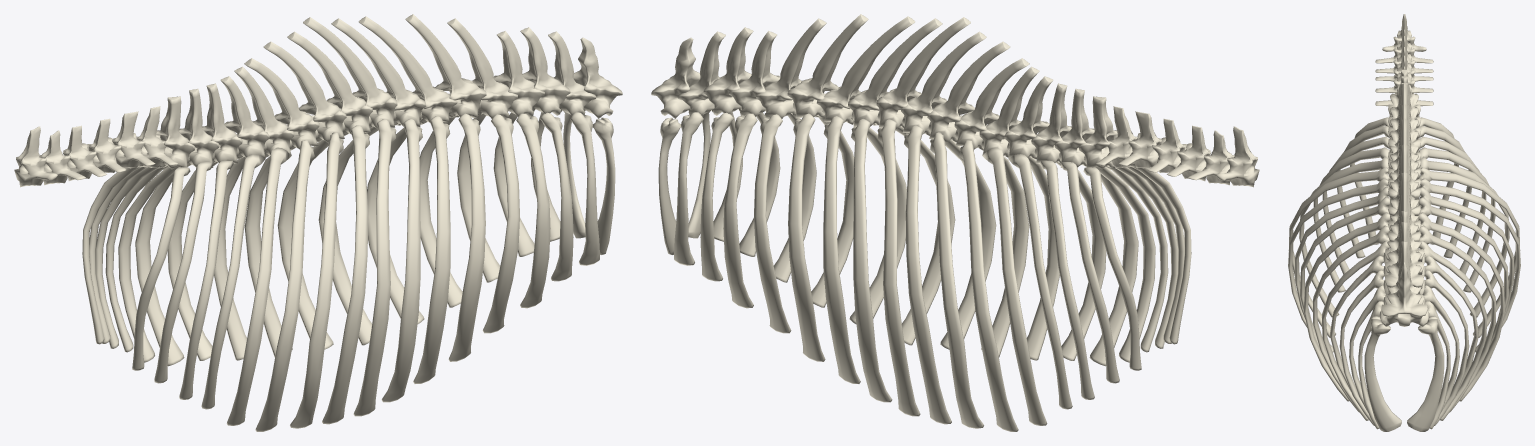
File: pack_horse_skeleton_v1.glb
3 renders of one model, left to right at view 1: azimuth 30°, elevation 25°; view 2: azimuth 150°, elevation 25°; view 3: azimuth 270°, elevation 25°, orthographic. The views are drawn at different scales.
Parts seen in each view (by area): view 1: equ_ske_cos_009-d, equ_ske_cos_010-d, equ_ske_cos_008-d, equ_ske_cos_011-d, equ_ske_cos_012-d, equ_ske_cos_007-d, equ_ske_cos_006-d, equ_ske_cos_013-d, equ_ske_cos_005-d, equ_ske_cos_014-d, equ_ske_cos_004-d, equ_ske_cos_015-d (+45 smaller); view 2: equ_ske_cos_009-i, equ_ske_cos_010-i, equ_ske_cos_008-i, equ_ske_cos_011-i, equ_ske_cos_012-i, equ_ske_cos_007-i, equ_ske_cos_006-i, equ_ske_cos_013-i, equ_ske_cos_005-i, equ_ske_cos_014-i, equ_ske_cos_004-i, equ_ske_cos_015-i (+45 smaller); view 3: equ_ske_tor_001, equ_ske_cos_001-i, equ_ske_cos_001-d, equ_ske_cos_008-i, equ_ske_cos_008-d, equ_ske_cos_011-i, equ_ske_cos_011-d, equ_ske_cos_007-i, equ_ske_cos_007-d, equ_ske_cos_006-i, equ_ske_cos_006-d, equ_ske_cos_012-i (+45 smaller).
Boxes of the visible parts, left/top/right/bottom form: equ_ske_cos_009-d: left=353, top=119, right=396, bottom=416; equ_ske_cos_010-d: left=322, top=125, right=369, bottom=424; equ_ske_cos_008-d: left=381, top=119, right=422, bottom=402; equ_ske_cos_011-d: left=290, top=132, right=343, bottom=428; equ_ske_cos_012-d: left=255, top=140, right=314, bottom=431; equ_ske_cos_007-d: left=413, top=116, right=450, bottom=383; equ_ske_cos_006-d: left=448, top=113, right=485, bottom=361; equ_ske_cos_013-d: left=226, top=147, right=291, bottom=425; equ_ske_cos_005-d: left=482, top=114, right=519, bottom=333; equ_ske_cos_014-d: left=201, top=154, right=265, bottom=409; equ_ske_cos_004-d: left=516, top=113, right=550, bottom=308; equ_ske_cos_015-d: left=179, top=160, right=233, bottom=399; equ_ske_cos_009-i: left=877, top=119, right=920, bottom=416; equ_ske_cos_010-i: left=904, top=125, right=951, bottom=424; equ_ske_cos_008-i: left=851, top=119, right=892, bottom=402; equ_ske_cos_011-i: left=930, top=132, right=983, bottom=428; equ_ske_cos_012-i: left=959, top=140, right=1018, bottom=431; equ_ske_cos_007-i: left=823, top=116, right=860, bottom=383; equ_ske_cos_006-i: left=788, top=113, right=825, bottom=361; equ_ske_cos_013-i: left=982, top=147, right=1047, bottom=425; equ_ske_cos_005-i: left=754, top=114, right=791, bottom=333; equ_ske_cos_014-i: left=1008, top=154, right=1072, bottom=409; equ_ske_cos_004-i: left=723, top=113, right=757, bottom=308; equ_ske_cos_015-i: left=1040, top=160, right=1094, bottom=399; equ_ske_tor_001: left=1379, top=262, right=1429, bottom=326; equ_ske_cos_001-i: left=1407, top=316, right=1444, bottom=431; equ_ske_cos_001-d: left=1364, top=316, right=1401, bottom=431; equ_ske_cos_008-i: left=1419, top=212, right=1505, bottom=401; equ_ske_cos_008-d: left=1303, top=212, right=1389, bottom=401; equ_ske_cos_011-i: left=1419, top=178, right=1520, bottom=352; equ_ske_cos_011-d: left=1288, top=178, right=1389, bottom=352; equ_ske_cos_007-i: left=1419, top=225, right=1495, bottom=412; equ_ske_cos_007-d: left=1313, top=225, right=1389, bottom=412; equ_ske_cos_006-i: left=1418, top=241, right=1486, bottom=420; equ_ske_cos_006-d: left=1322, top=241, right=1390, bottom=420; equ_ske_cos_012-i: left=1419, top=167, right=1520, bottom=337.
Size of the model in its own units: 2.82 by 1.69 by 1.2.
